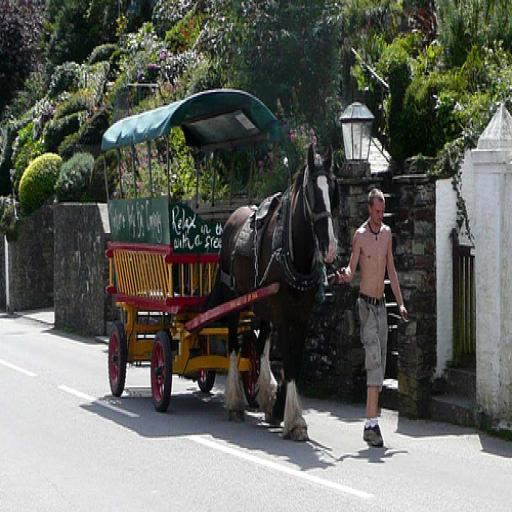animal: (214, 141, 340, 444)
person: (338, 188, 410, 462)
vehicle: (101, 88, 302, 414)
